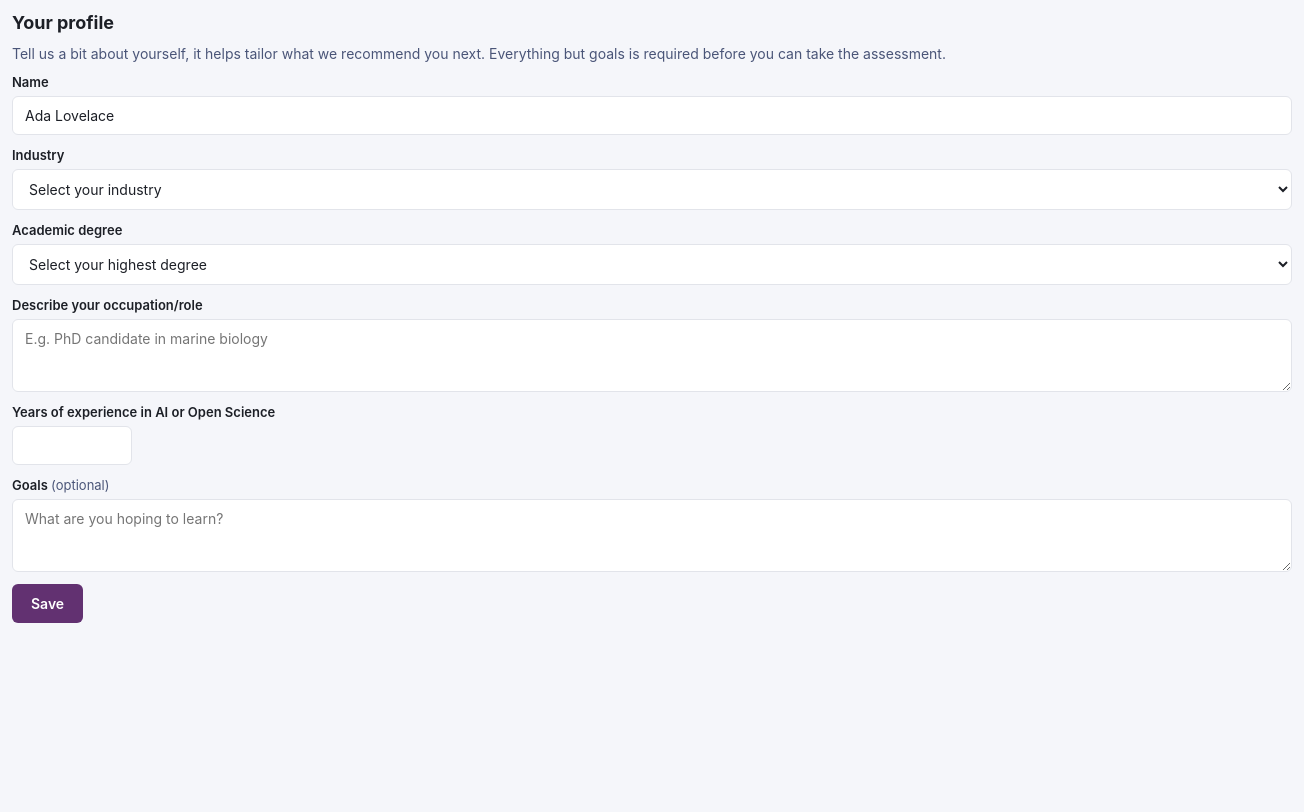
Test: ProfileForm › refuses to save until every required field is filled in
Expected: the field labelled "Name" is enabled, top-left (12, 96), bottom-right (1292, 135)
Click the button "Save" at (48, 604), box top-left (12, 584), bottom-right (83, 623)
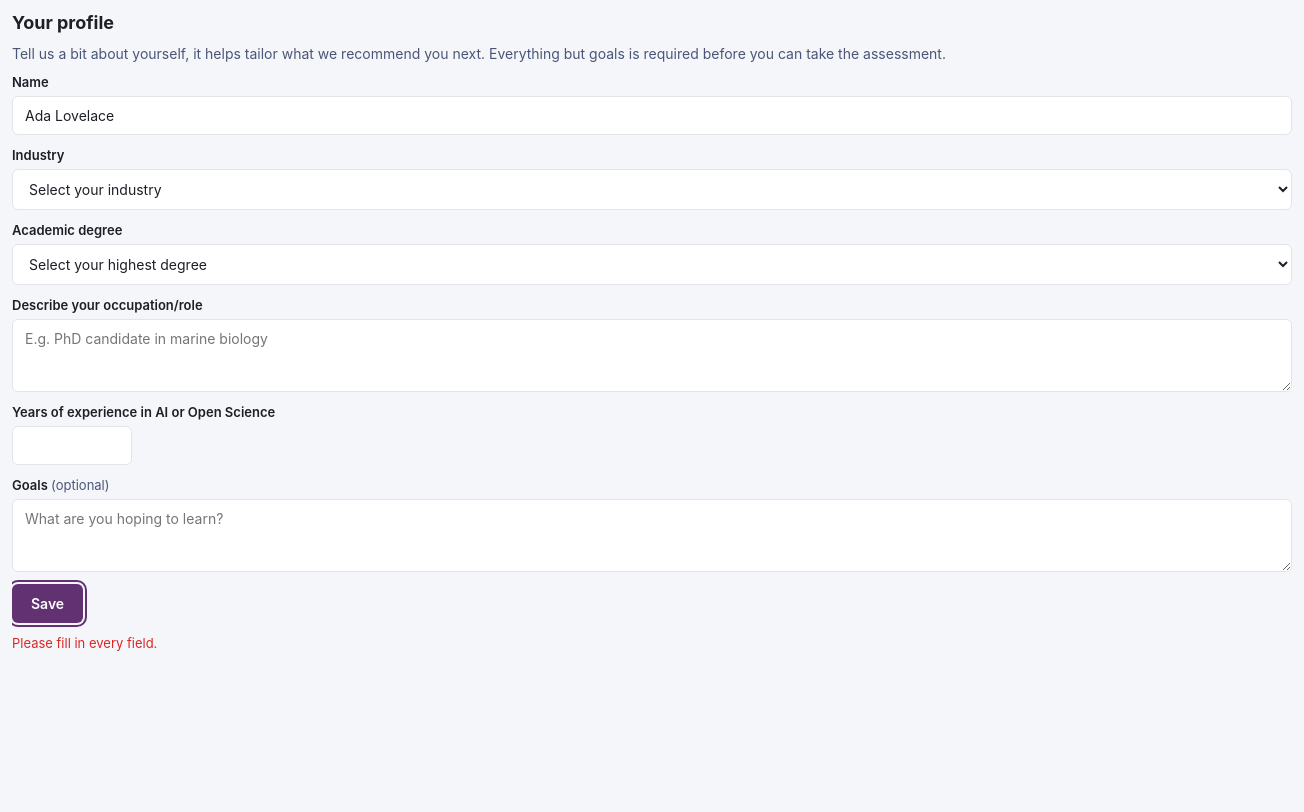
Result: the text "Please fill in every field." is shown at top-left (12, 635), bottom-right (157, 651)
